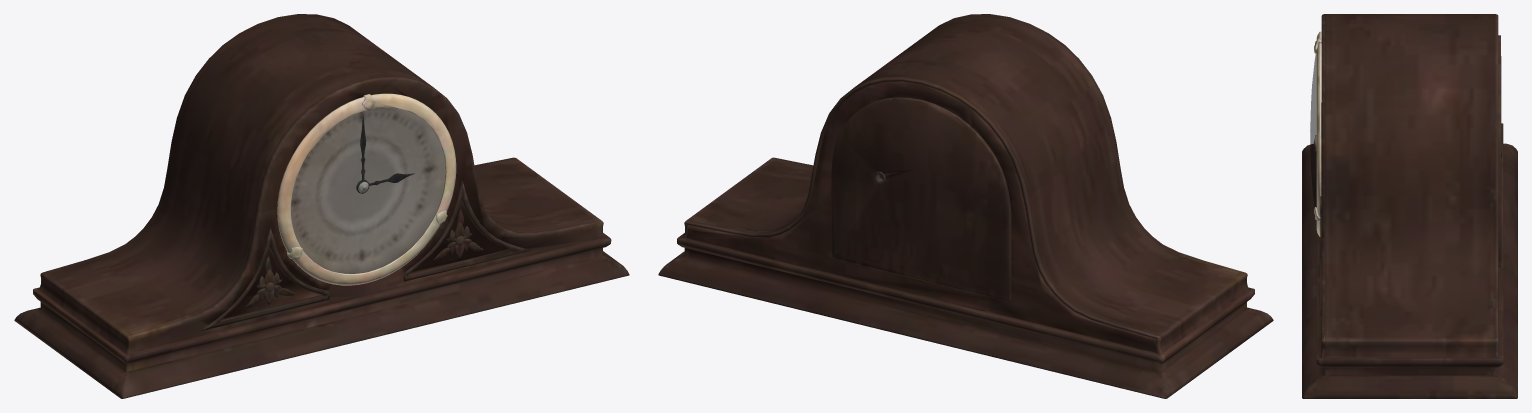
The model's file is mantel_clock_01.glb.
The picture shows the model from 3 angles, left to right: view 1: azimuth 30°, elevation 25°; view 2: azimuth 150°, elevation 25°; view 3: azimuth 270°, elevation 25°; orthographic projection.
Parts seen in each view (by area): view 1: mantel_clock_01, mantel_clock_01_glass; view 2: mantel_clock_01; view 3: mantel_clock_01, mantel_clock_01_glass.
Part boxes in pixels (x1=…): mantel_clock_01: x1=14, y1=14, x2=629, y2=398; mantel_clock_01_glass: x1=291, y1=107, x2=445, y2=273; mantel_clock_01: x1=658, y1=14, x2=1273, y2=398; mantel_clock_01: x1=1302, y1=14, x2=1517, y2=398; mantel_clock_01_glass: x1=1310, y1=53, x2=1316, y2=207.
Bounding box in the file's own units: 0.3423 × 0.1604 × 0.126.
Materials: 2 (2 with a texture image).
